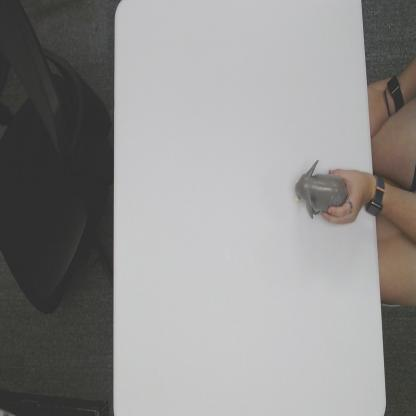Elephant: (294, 158, 350, 219)
Hand: (321, 167, 366, 226)
